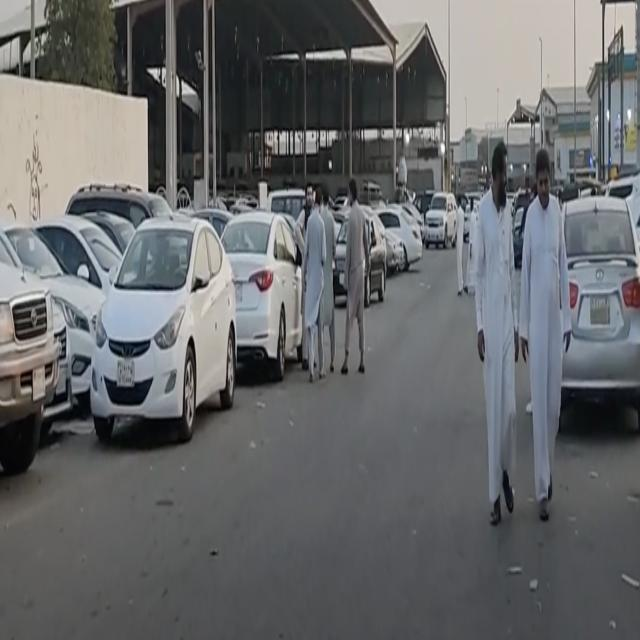license_plate: (590, 295, 610, 326), (116, 359, 136, 388), (32, 368, 45, 402), (56, 369, 66, 397), (236, 280, 243, 304), (340, 274, 345, 285)
